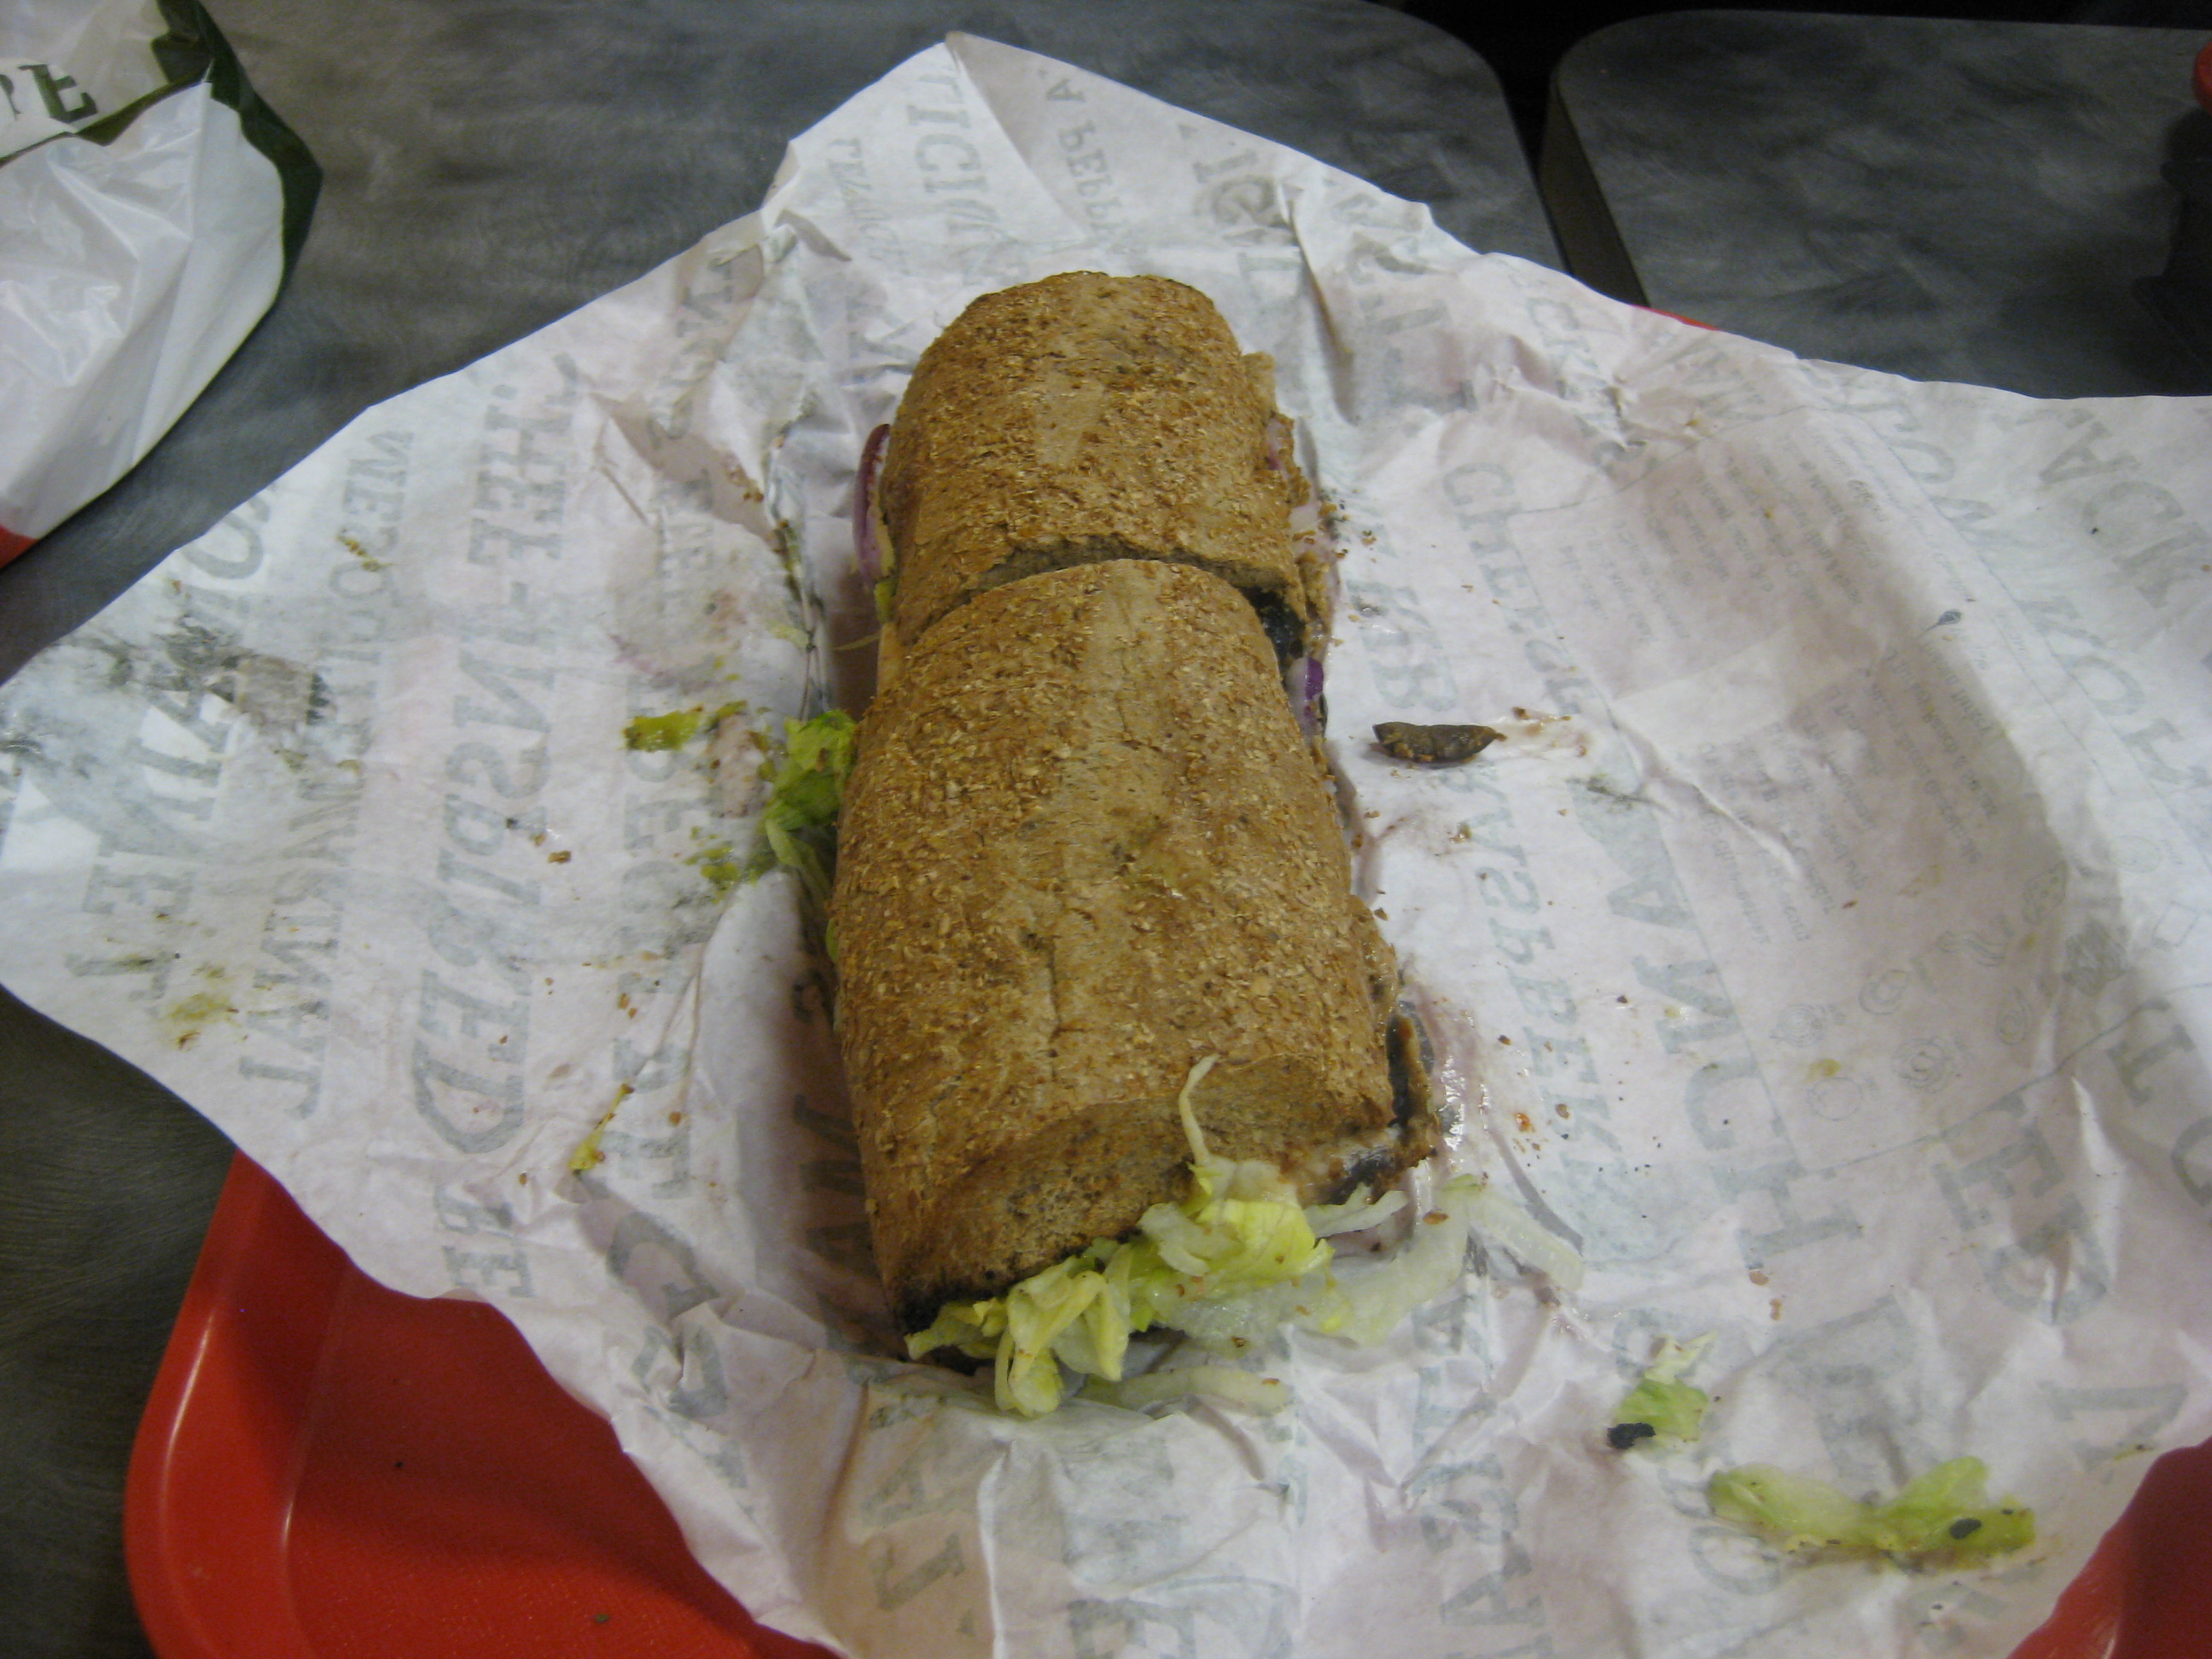sub: (825, 245, 1484, 1380)
